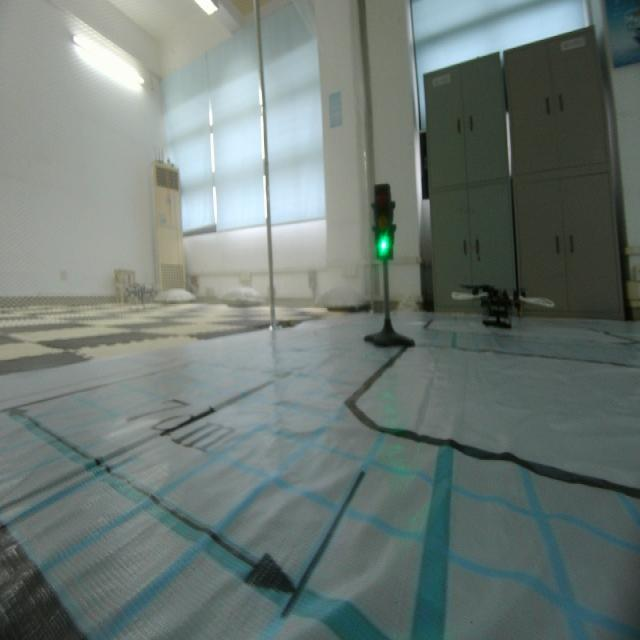green: (367, 181, 397, 261)
